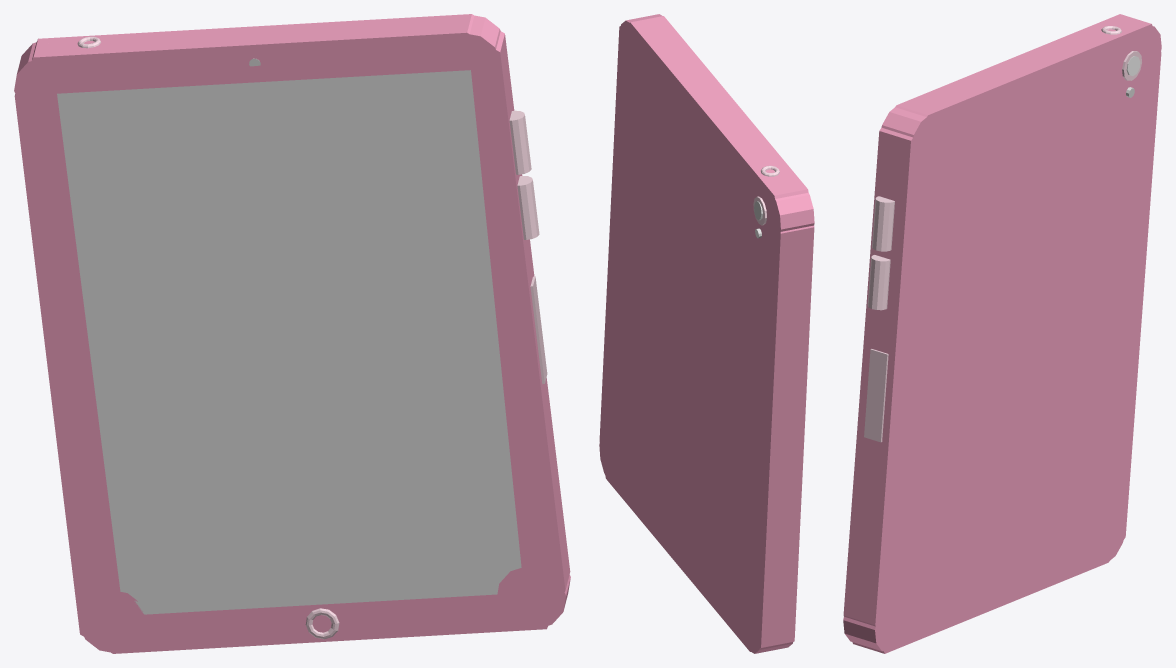
Rendered from tablet_rosa.fbx.
The picture shows the model from 3 angles, left to right: view 1: azimuth 30°, elevation 25°; view 2: azimuth 150°, elevation 25°; view 3: azimuth 270°, elevation 25°; orthographic projection. The views are drawn at different scales.
Parts seen in each view (by area): view 1: group_584901779; view 2: group_584901779; view 3: group_584901779.
Boxes of the visible parts, x1,y1,x2,y2 form: group_584901779: (14,14,570,653); group_584901779: (599,14,814,653); group_584901779: (843,14,1161,653).
Bounding box in the file's own units: 13.39 × 19.83 × 10.33.
